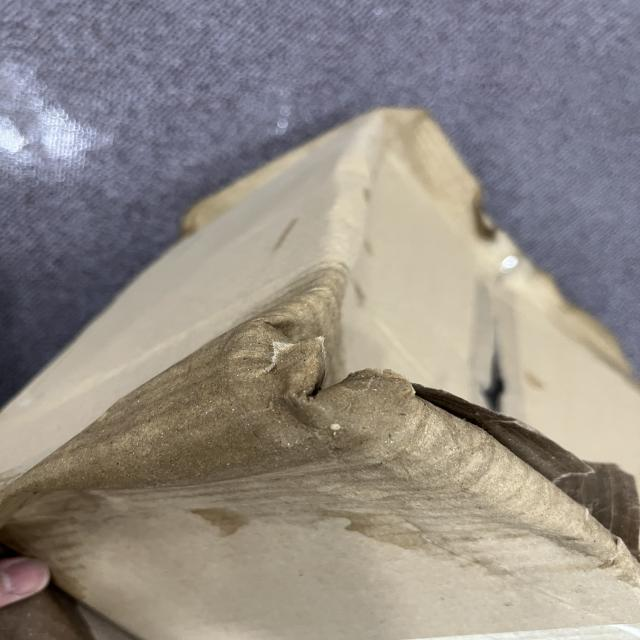wet: (32, 287, 512, 560)
